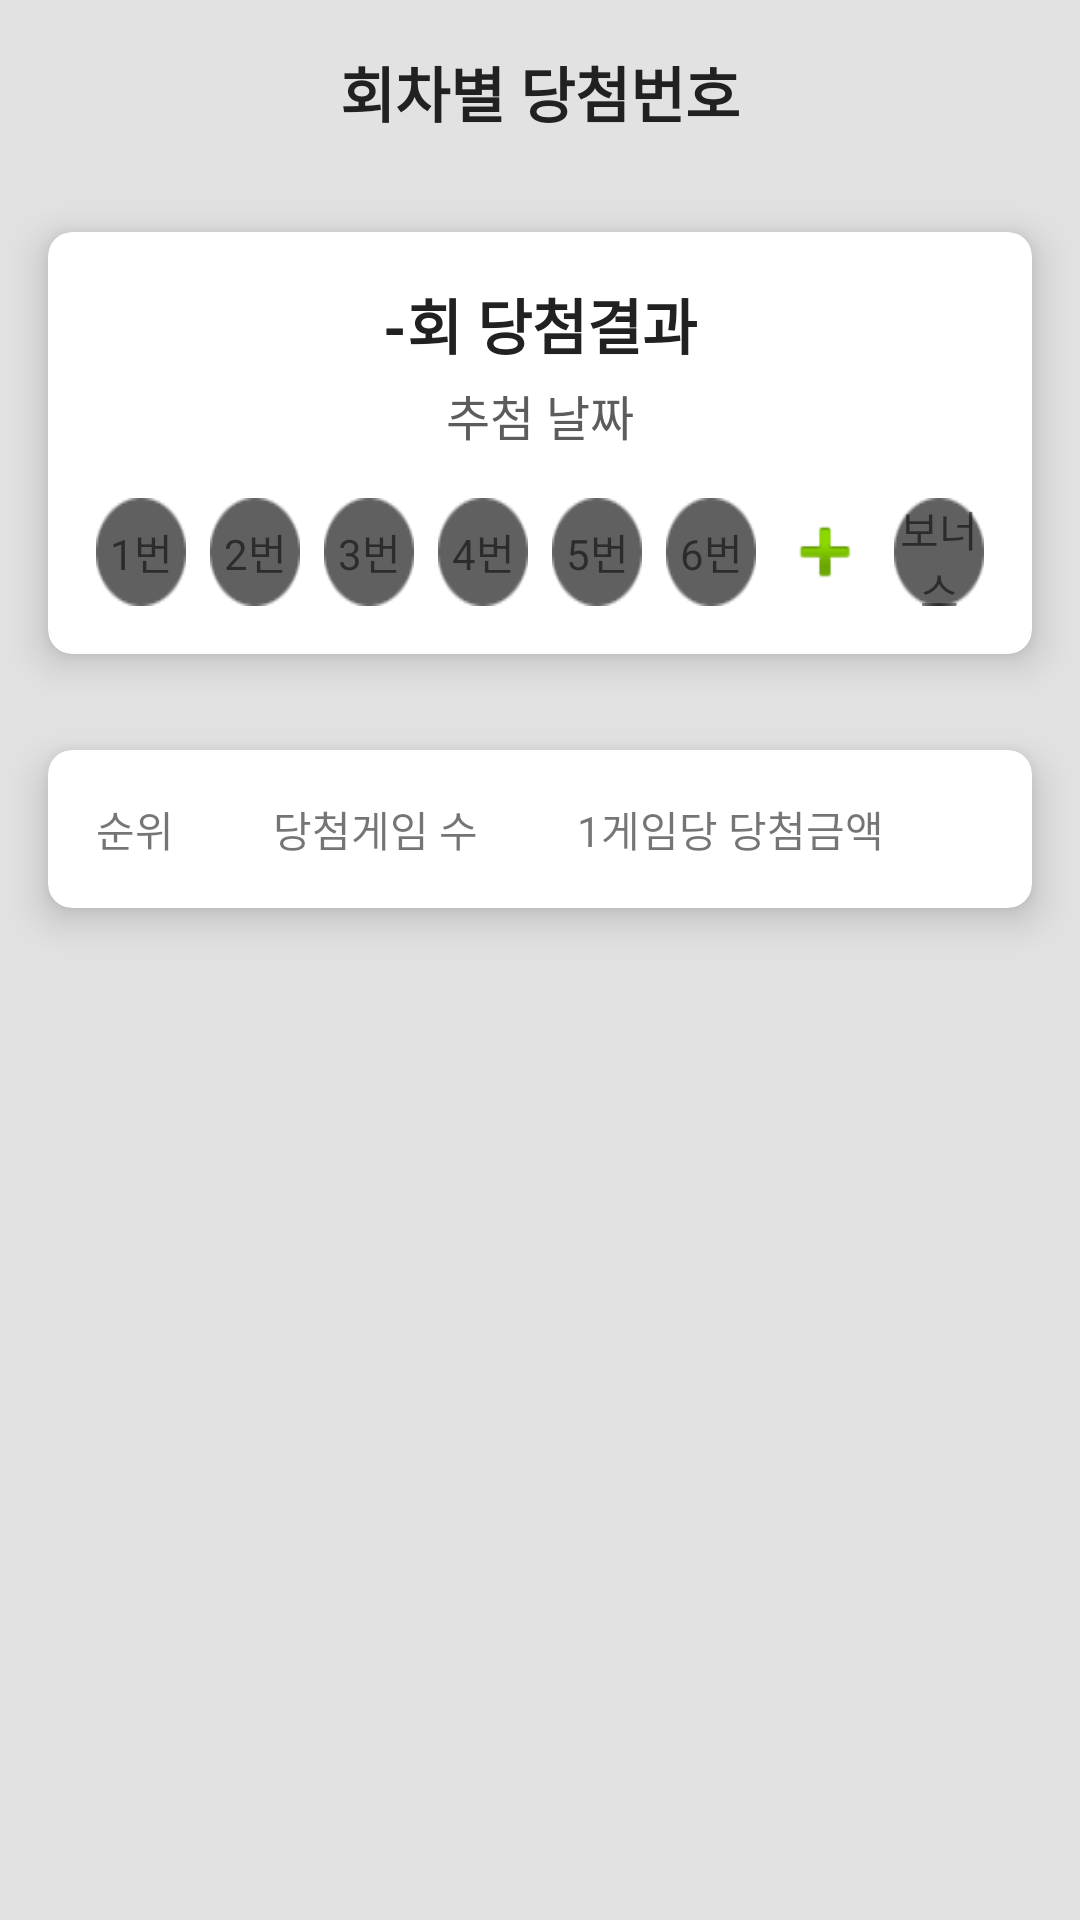

Named icons in this screenshot (1080 x 1920) and their bounding boxes, (x1, y1, x2, y2):
add: (799, 526, 851, 578)
